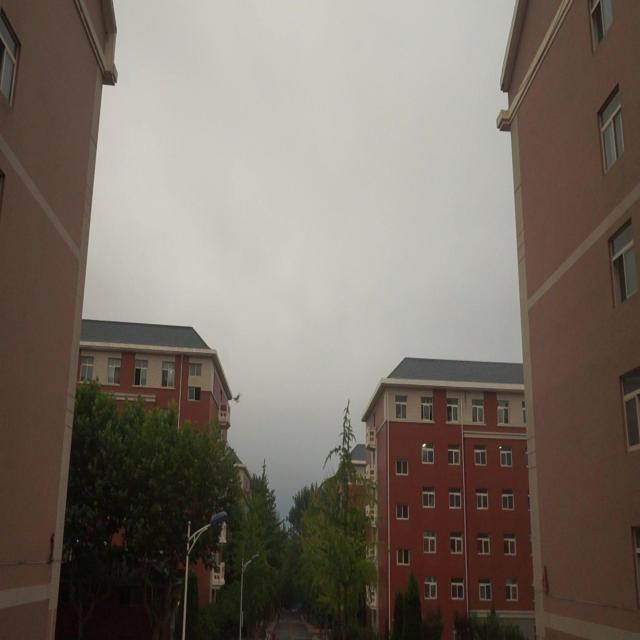drone: (232, 390, 243, 402)
